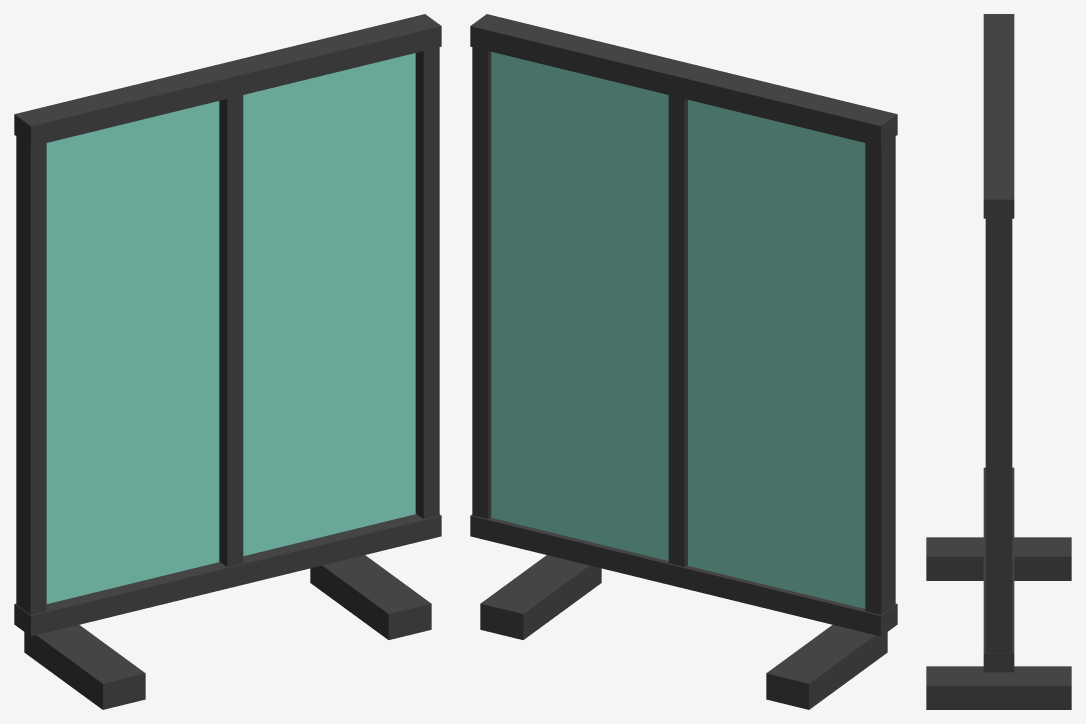
3 views of the same model, side by side, from view 1: azimuth 30°, elevation 25°; view 2: azimuth 150°, elevation 25°; view 3: azimuth 270°, elevation 25° (orthographic). The views are drawn at different scales.
Visible parts, largest first — view 1: Forward blue glazing, Forward blue glazing.001, Bridge window frame.001, Window mullion, Bridge window frame, Window mullion.001, Window mullion.002, Window base foot, Window base foot.001; view 2: Forward blue glazing, Forward blue glazing.001, Bridge window frame.001, Window mullion, Bridge window frame, Window mullion.001, Window mullion.002, Window base foot, Window base foot.001; view 3: Window mullion.002, Bridge window frame.001, Window base foot.001, Window base foot, Bridge window frame.
Part boxes in pixels (x1,y1,x2,y2): Forward blue glazing: (46, 101, 219, 603); Forward blue glazing.001: (243, 53, 415, 555); Bridge window frame.001: (14, 14, 441, 146); Window mullion: (16, 136, 46, 614); Bridge window frame: (14, 513, 441, 636); Window mullion.001: (219, 95, 243, 566); Window mullion.002: (415, 47, 439, 518); Window base foot: (24, 625, 145, 709); Window base foot.001: (310, 555, 431, 639); Forward blue glazing: (688, 100, 865, 608); Forward blue glazing.001: (491, 52, 668, 560); Bridge window frame.001: (470, 14, 897, 146); Window mullion: (865, 136, 895, 614); Bridge window frame: (470, 514, 897, 636); Window mullion.001: (668, 95, 687, 566); Window mullion.002: (472, 47, 491, 518); Window base foot: (766, 625, 887, 709); Window base foot.001: (480, 555, 601, 639); Window mullion.002: (985, 218, 1012, 652); Bridge window frame.001: (983, 14, 1014, 218); Window base foot.001: (926, 666, 1071, 709); Window base foot: (926, 537, 1071, 580); Bridge window frame: (983, 467, 1014, 672).
Size of the model in its own units: 115 by 153 by 38.
